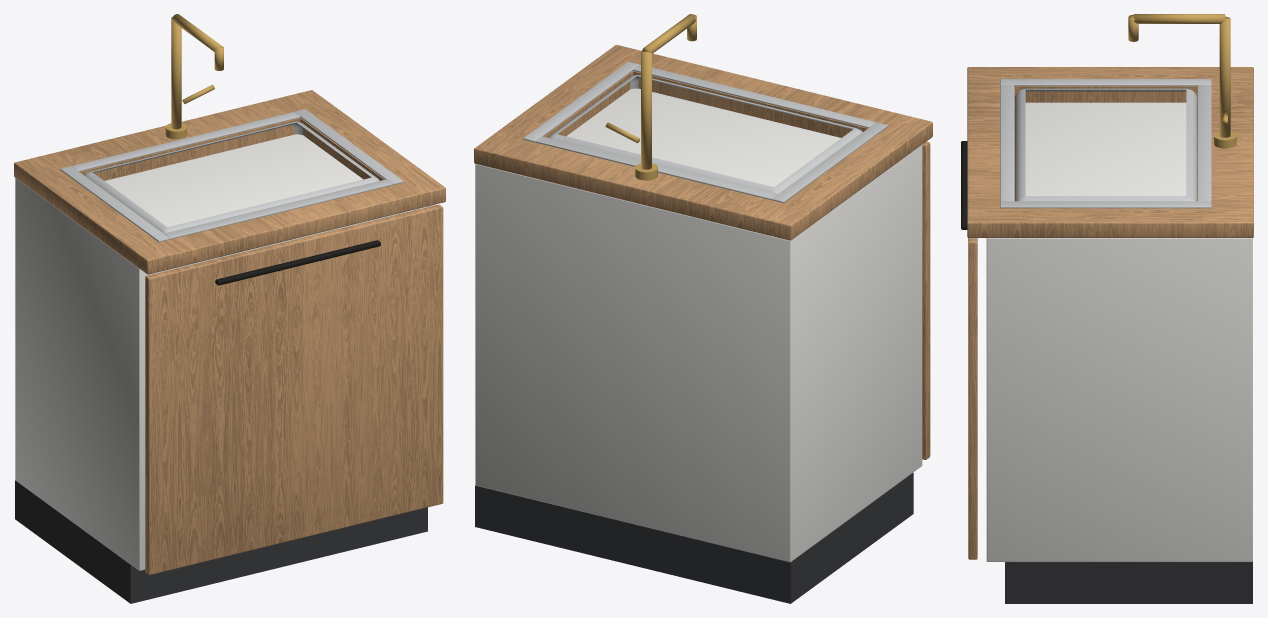
Rendered from base-oak-sink.glb.
3 renders of one model, left to right at view 1: azimuth 30°, elevation 25°; view 2: azimuth 150°, elevation 25°; view 3: azimuth 270°, elevation 25°, orthographic. The views are drawn at different scales.
Visible parts, largest first — view 1: front, carcass, worktop, plinth, sink-bowl, rim-b, rim-f, rim-l, rim-r, pull, tap; view 2: carcass, worktop, plinth, sink-bowl, front, rim-f, rim-b, rim-l, rim-r, tap, arm; view 3: carcass, worktop, plinth, sink-bowl, front, rim-b, rim-f, rim-r, rim-l, tap, arm, pull.
Boxes of the visible parts, box(x1,y1,x2,y2) form: front: box(145, 204, 443, 575); carcass: box(15, 134, 435, 570); worktop: box(14, 90, 445, 274); plinth: box(15, 480, 427, 603); sink-bowl: box(84, 121, 379, 233); rim-b: box(71, 112, 300, 171); rim-f: box(164, 179, 392, 239); rim-l: box(60, 166, 169, 242); rim-r: box(295, 109, 403, 184); pull: box(215, 240, 380, 285); tap: box(171, 17, 181, 129); carcass: box(475, 88, 922, 562); worktop: box(474, 44, 932, 240); plinth: box(475, 472, 913, 603); sink-bowl: box(549, 75, 862, 193); front: box(922, 141, 930, 459); rim-f: box(633, 64, 875, 128); rim-b: box(535, 136, 777, 199); rim-l: box(772, 122, 887, 202); rim-r: box(523, 61, 639, 142); tap: box(641, 51, 651, 169); arm: box(642, 14, 696, 53); carcass: box(986, 102, 1252, 561); worktop: box(967, 67, 1253, 237); plinth: box(1005, 561, 1252, 603); sink-bowl: box(1015, 88, 1196, 201); front: box(968, 238, 977, 559); rim-b: box(1197, 85, 1211, 201); rim-f: box(1000, 85, 1014, 201); rim-r: box(1000, 201, 1211, 208); rim-l: box(1000, 79, 1211, 86); tap: box(1219, 16, 1230, 137); arm: box(1133, 14, 1225, 23); pull: box(961, 141, 967, 229).
Bounding box in the file's own units: 0.805 × 1.23 × 0.6385.
6 materials, 1 textured.
